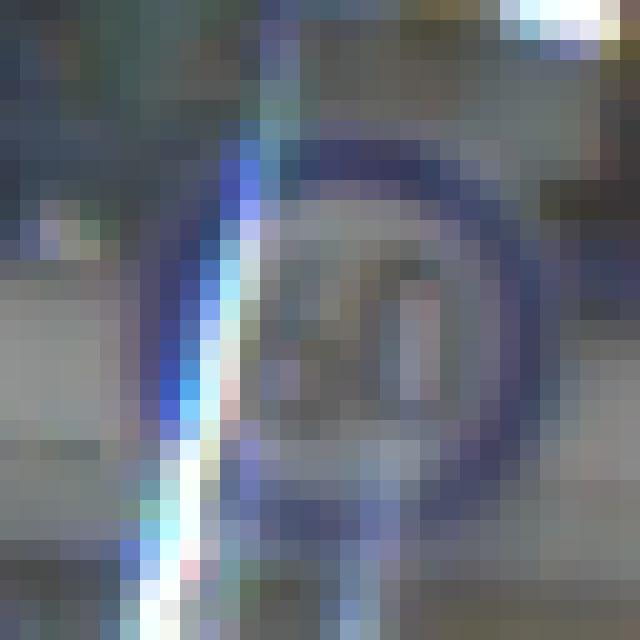SPEED-LIMIT-60: (130, 116, 578, 563)
